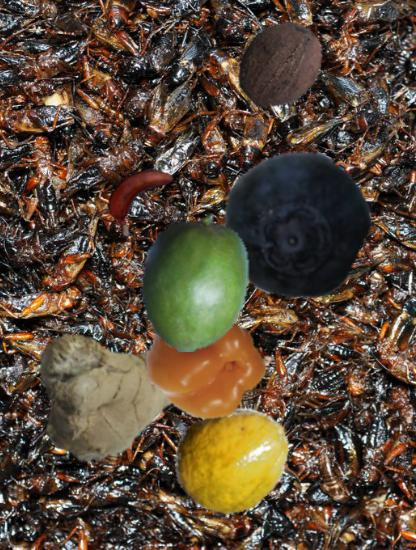Banana: (99, 156, 177, 234)
Blueberry: (219, 148, 369, 298)
Cocos: (230, 17, 328, 115)
Ginger: (30, 314, 176, 460)
Guava: (173, 398, 292, 517)
Mango: (125, 213, 265, 353)
Pepper: (148, 309, 262, 423)
